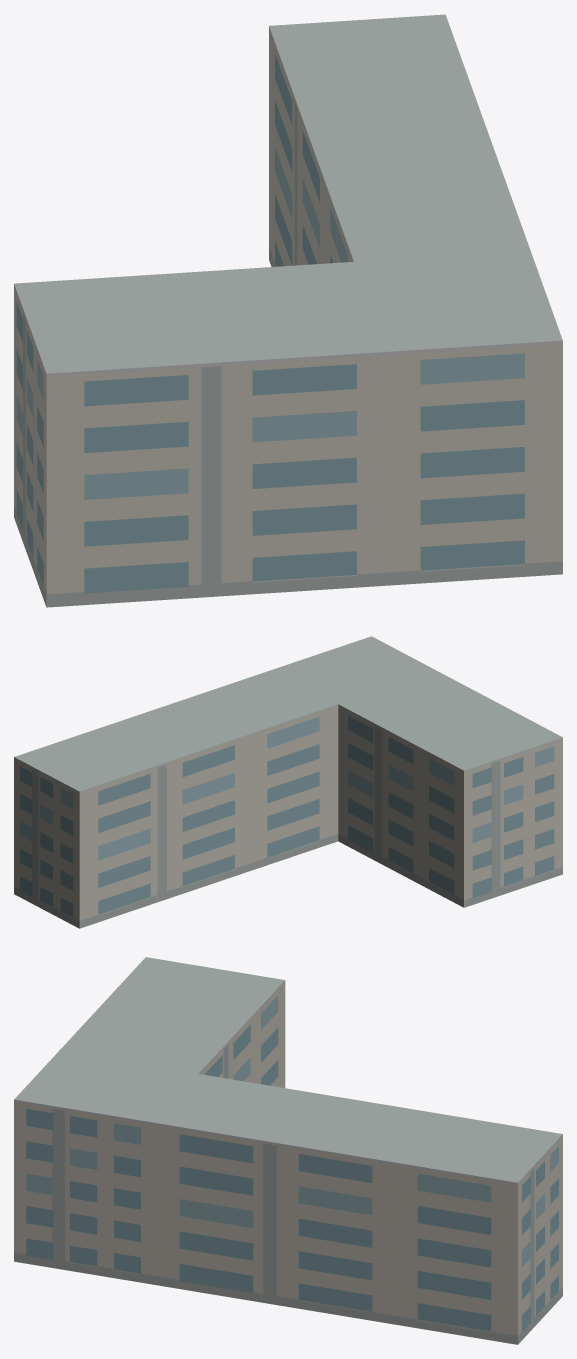
Rendered from residential-282b43c8-98a4-46d7-bfb9-890a44b19641.glb.
The picture shows the model from 3 angles, top to bottom: view 1: azimuth 30°, elevation 25°; view 2: azimuth 150°, elevation 25°; view 3: azimuth 270°, elevation 25°; orthographic projection. The views are drawn at different scales.
Parts seen in each view (by area): view 1: residential-282b43c8-98a4-46d7-bfb9-890a44b19641.tmp; view 2: residential-282b43c8-98a4-46d7-bfb9-890a44b19641.tmp; view 3: residential-282b43c8-98a4-46d7-bfb9-890a44b19641.tmp.
Boxes of the visible parts, x1,y1,x2,y2 form: residential-282b43c8-98a4-46d7-bfb9-890a44b19641.tmp: (14, 14, 562, 607); residential-282b43c8-98a4-46d7-bfb9-890a44b19641.tmp: (14, 636, 562, 928); residential-282b43c8-98a4-46d7-bfb9-890a44b19641.tmp: (14, 957, 562, 1344).
Bounding box in the file's own units: 45.57 × 15.25 × 46.82.
